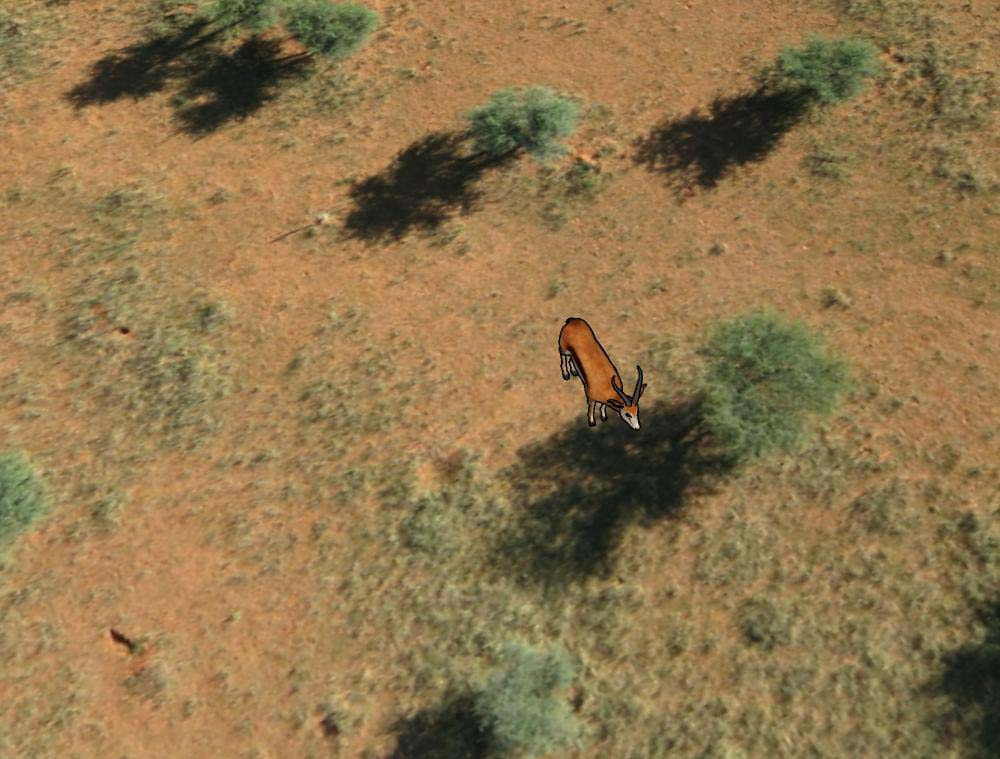springbok: (555, 310, 646, 439)
